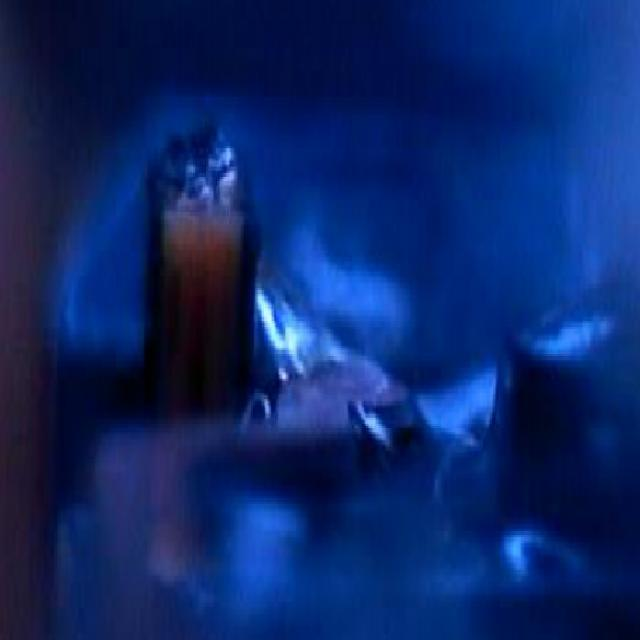No Good: (248, 254, 388, 432)
